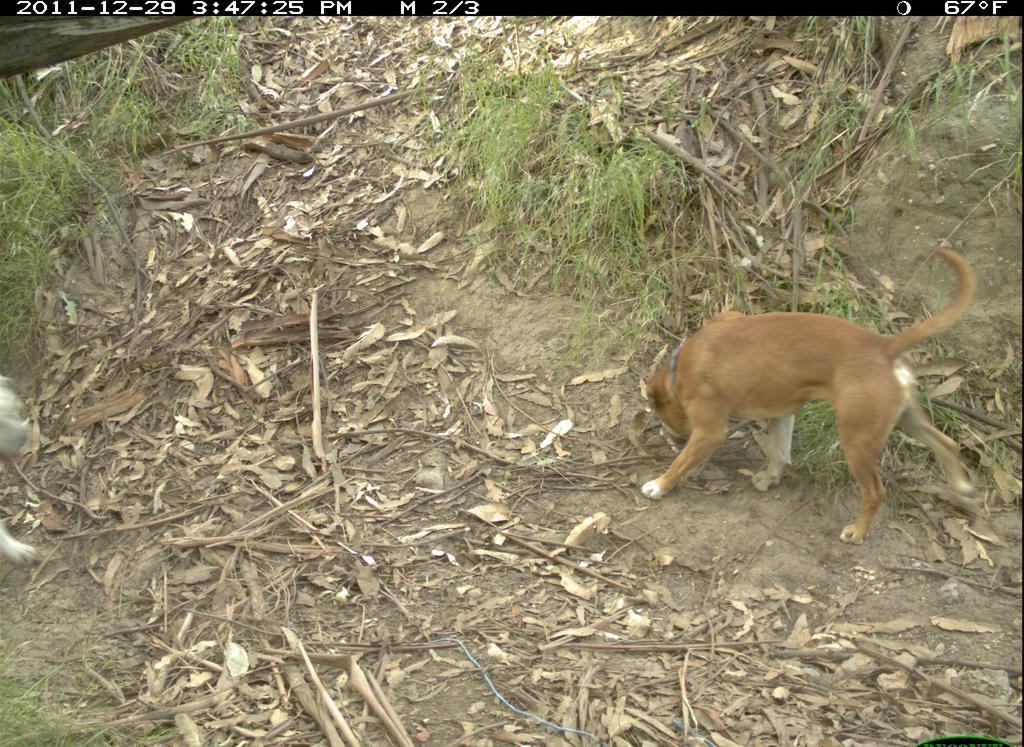dog: (635, 241, 982, 552)
